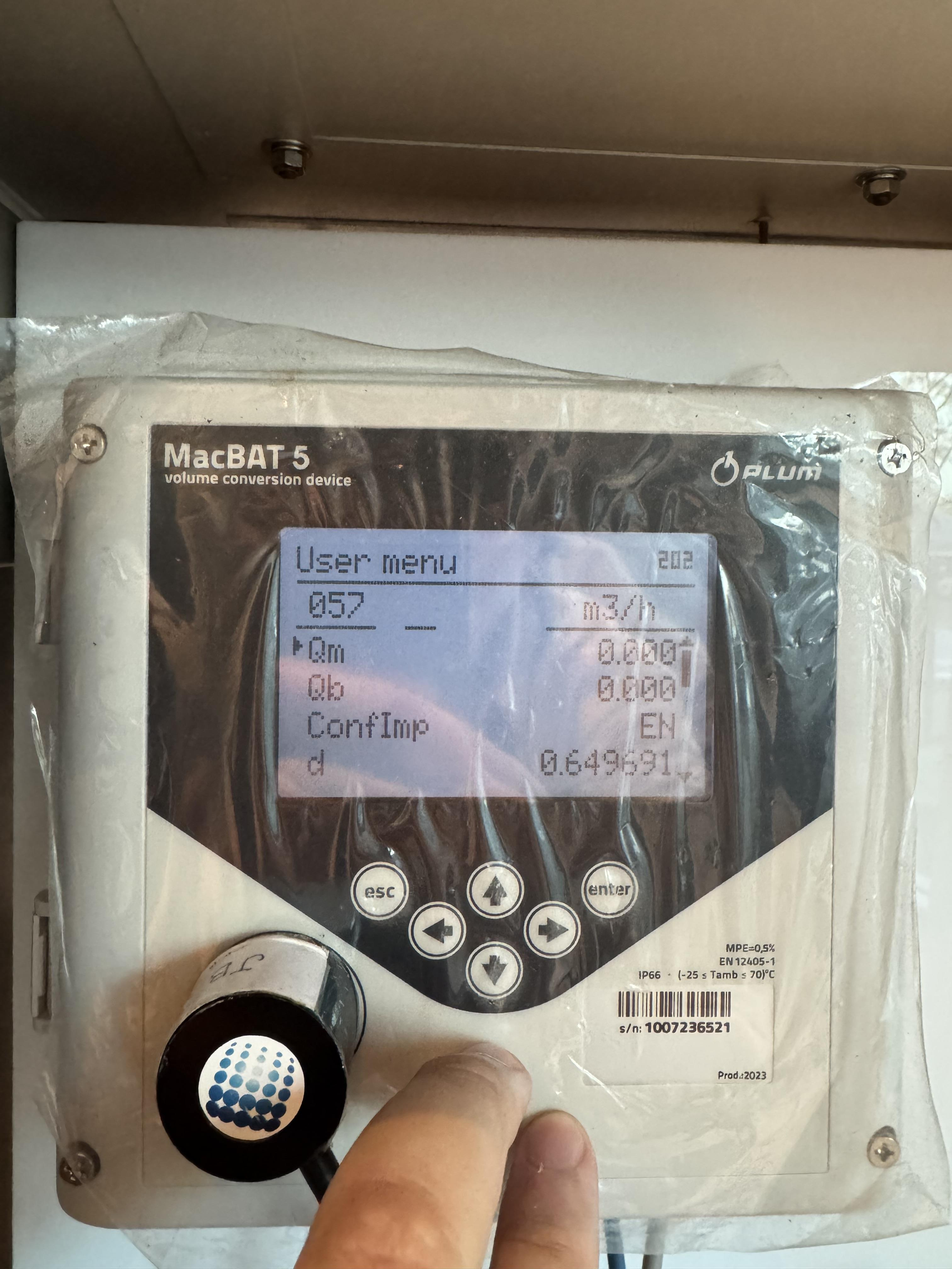digital_screen: (278, 529, 715, 802)
